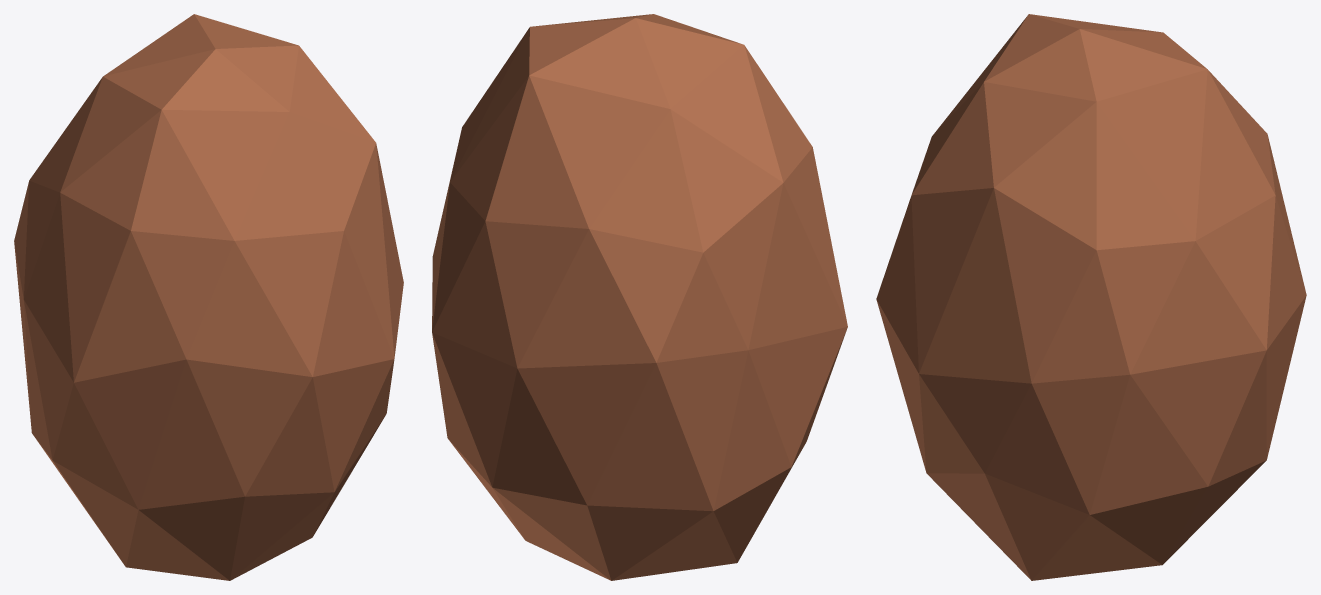
File: Lumpy Oval Coconut.fbx
3 views of the same model, side by side, from view 1: azimuth 30°, elevation 25°; view 2: azimuth 150°, elevation 25°; view 3: azimuth 270°, elevation 25° (orthographic). The views are drawn at different scales.
Visible parts, largest first — view 1: Lumpy Oval Coconut; view 2: Lumpy Oval Coconut; view 3: Lumpy Oval Coconut.
Part boxes in pixels (x1,y1,x2,y2): Lumpy Oval Coconut: (14,14,403,580); Lumpy Oval Coconut: (432,14,847,580); Lumpy Oval Coconut: (876,14,1306,580).
Bounding box in the file's own units: 195 × 284 × 205.
